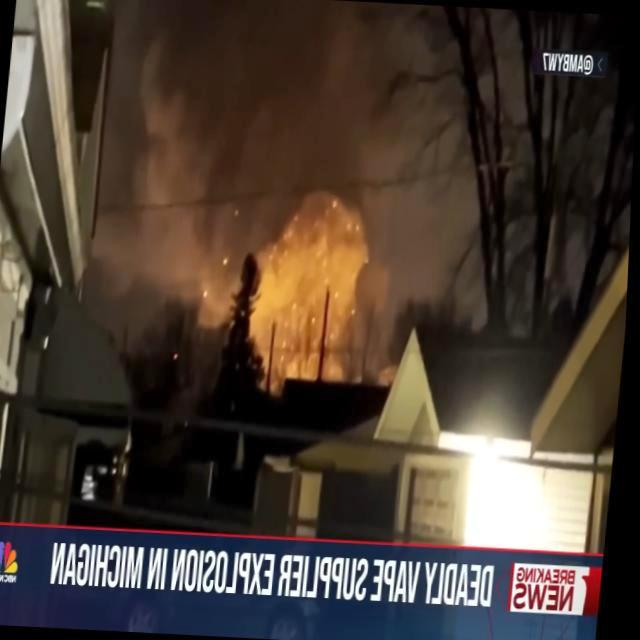fire: (204, 188, 388, 408)
